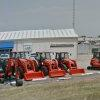Tractor: (10, 48, 68, 84)
